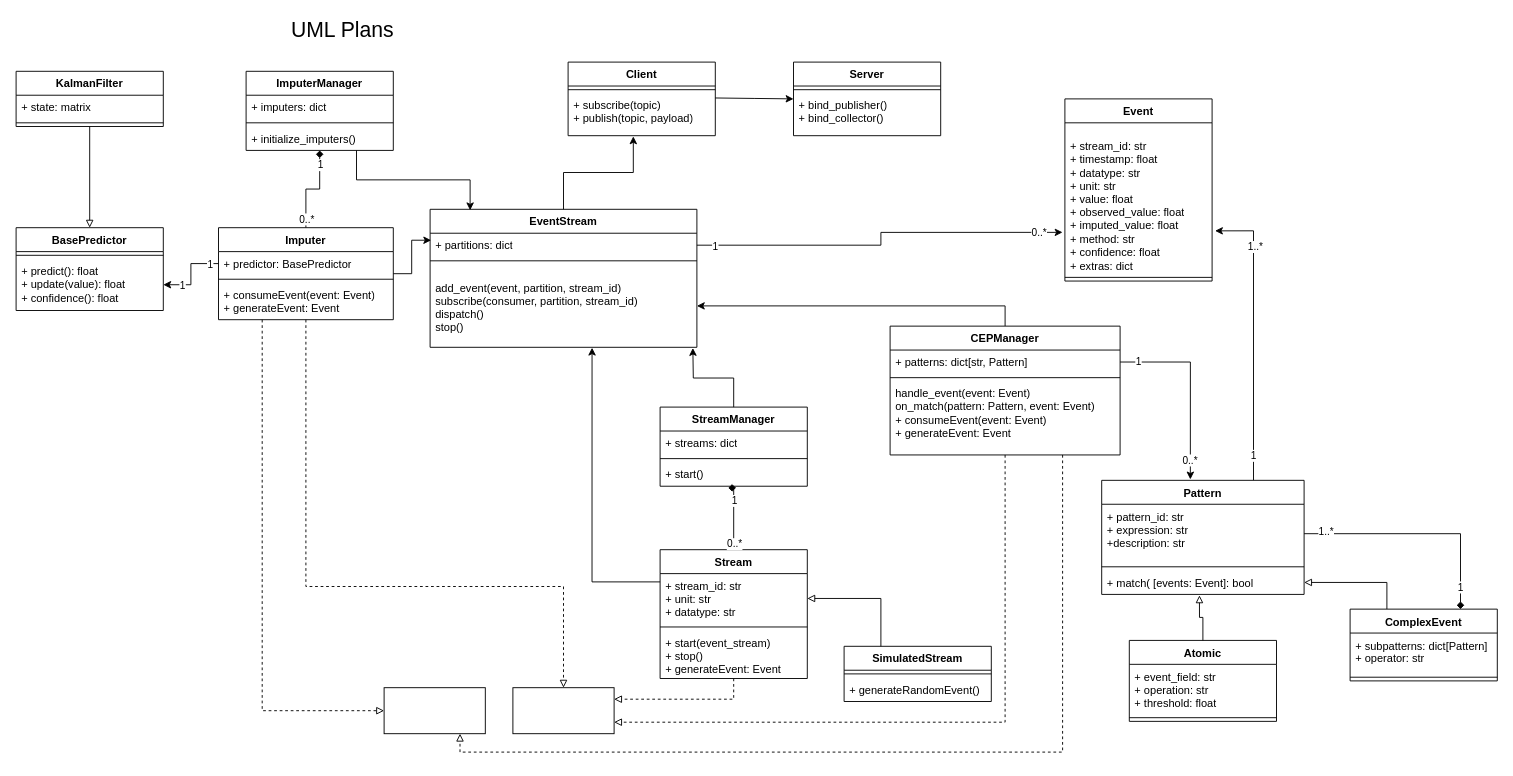
Some shapes in this 1513 by 776 pixel diagram are drawn without their labels. The shapes that lost their labels are listed below. From the top down, each one's centre as x and y in pixels, then its label:
(434,710): «interface» EventConsumer
(563,710): «interface» EventGenerator
